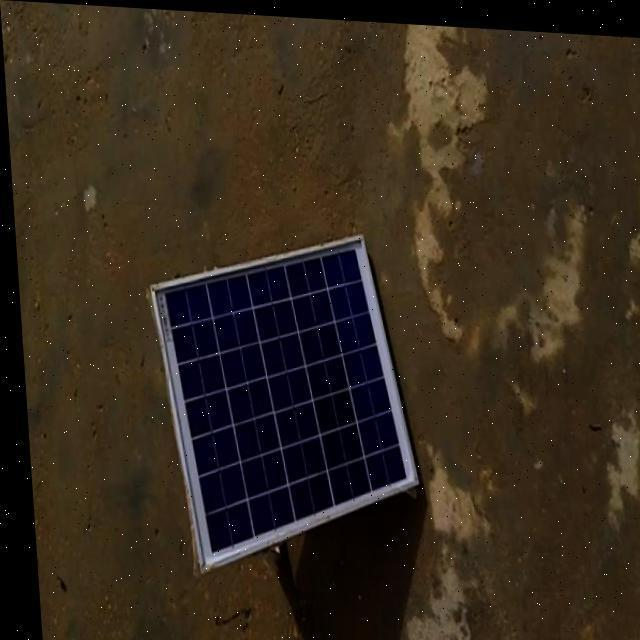Normal Solar Panel: (144, 222, 418, 580)
